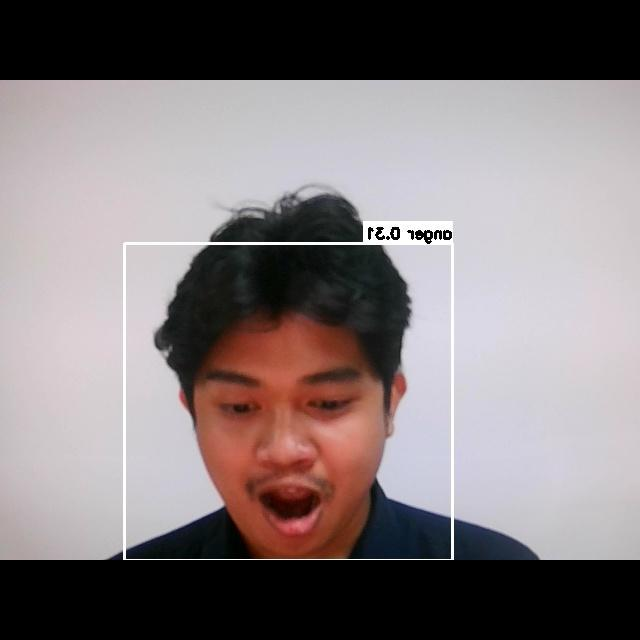Surprised: (165, 331, 409, 547)
